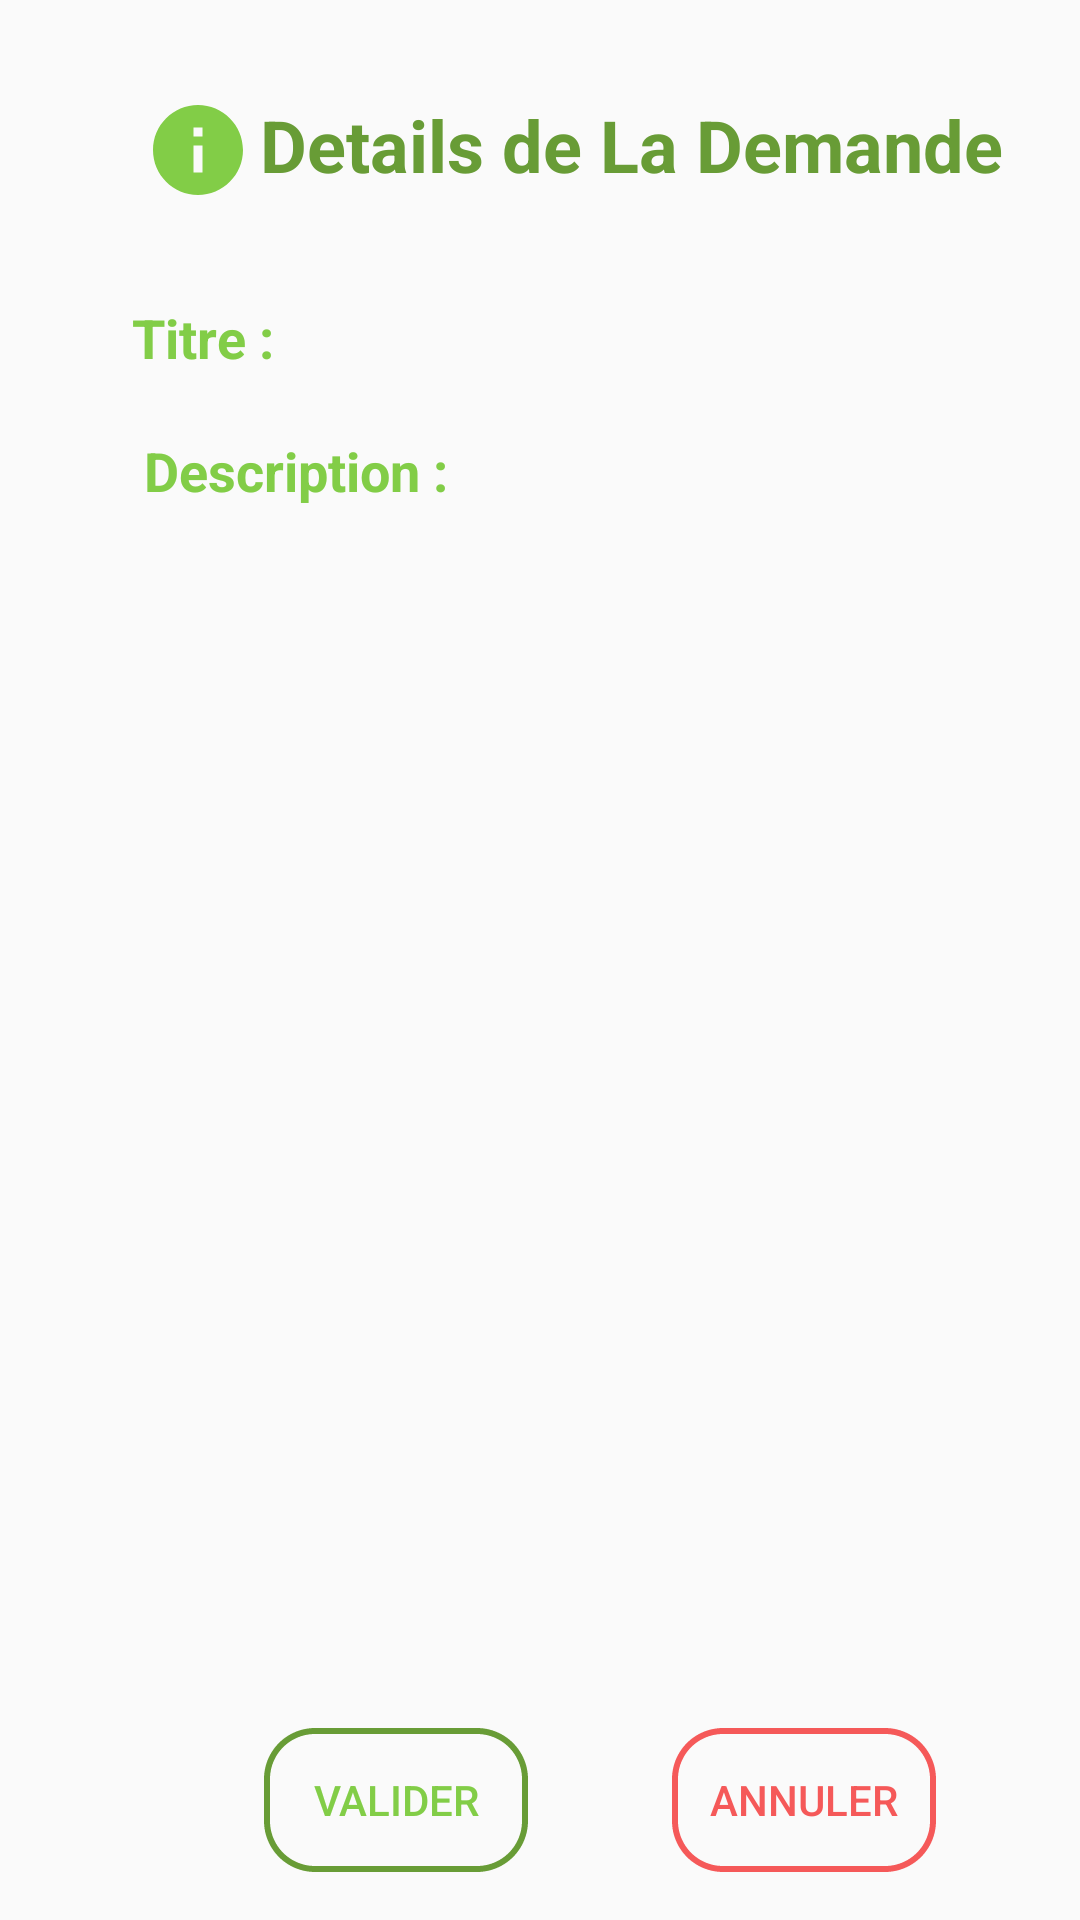

Icon click points for this 1080px×1920px phone screenshot, format [x,y]:
info: [198,150]
